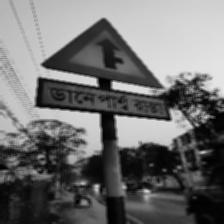Side-road-right: (37, 16, 169, 120)
